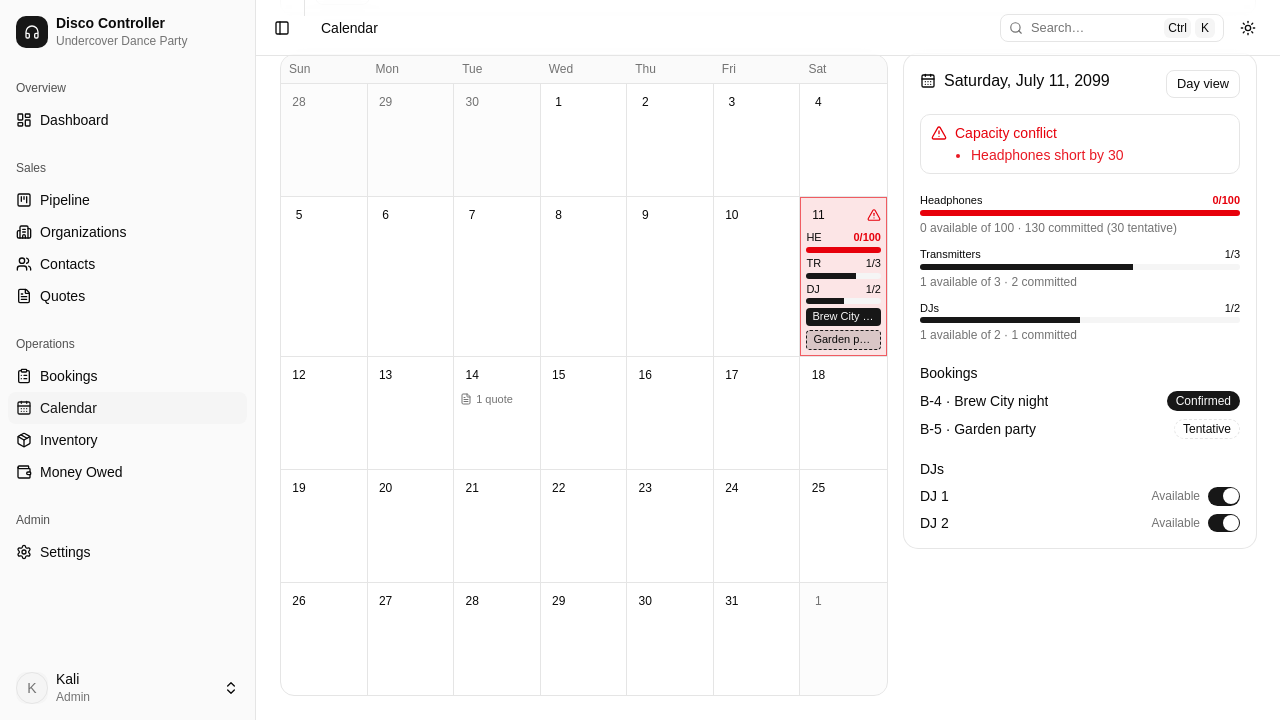
Test case: calendar page › shows quotes as indicators without reducing capacity
This screenshot has width=1280, height=720.
(page scrolled)
Click the cell "14 1 quote" at (497, 413), box [454, 357, 541, 469]
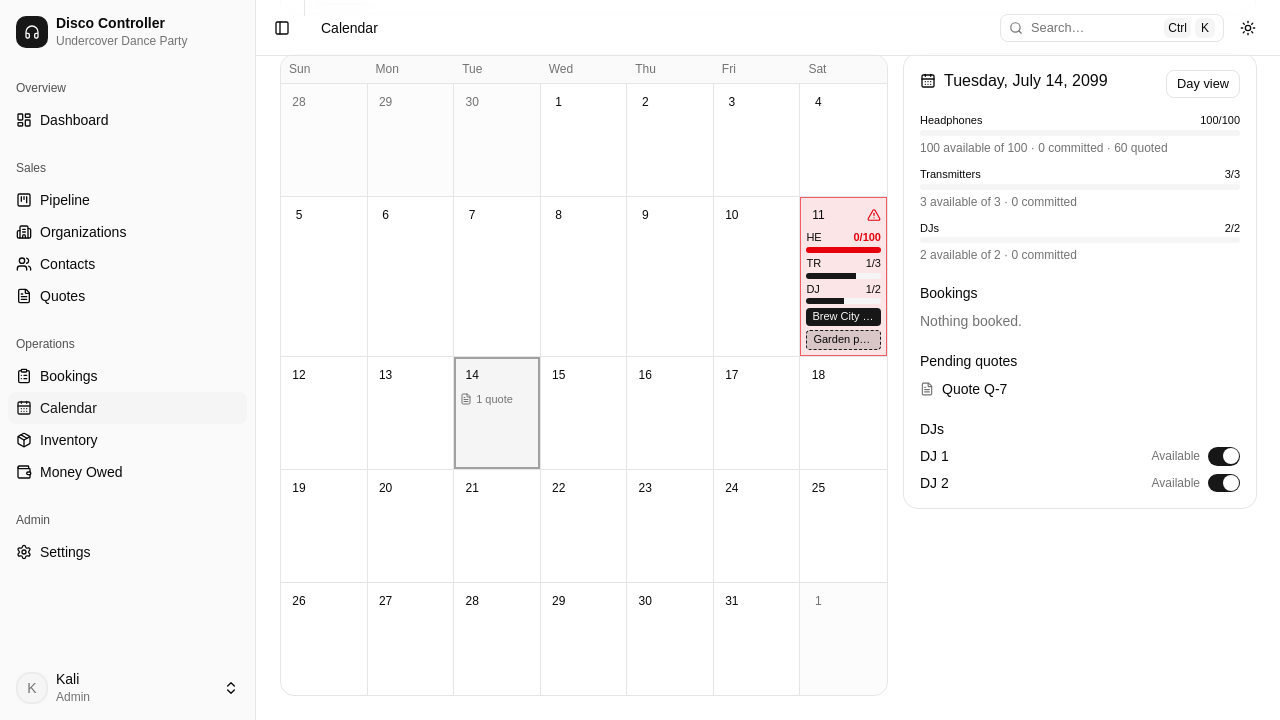
Now the heading "Tuesday, July 14, 2099" is shown, box [920, 72, 1108, 89]
Now the text "100 available of 100 · 0 committed · 60 quoted" is shown, box [920, 141, 1168, 155]
